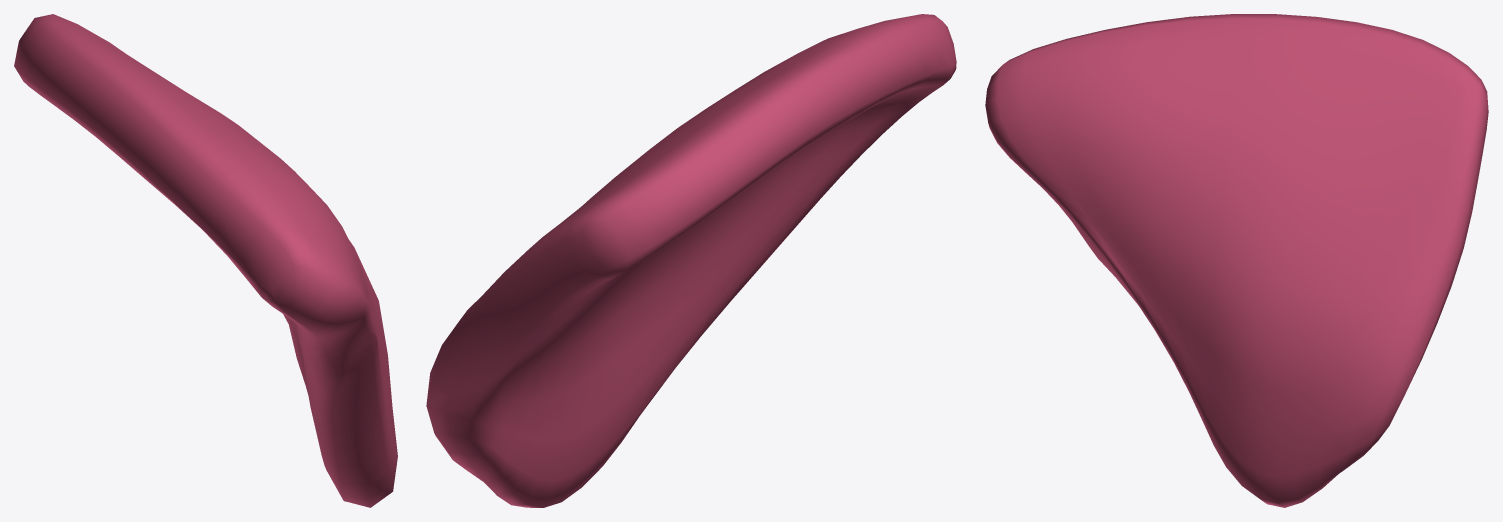
3 renders of one model, left to right at view 1: azimuth 30°, elevation 25°; view 2: azimuth 150°, elevation 25°; view 3: azimuth 270°, elevation 25°, orthographic. The views are drawn at different scales.
Visible parts, largest first — view 1: 左侧股二头肌下腱下囊; view 2: 左侧股二头肌下腱下囊; view 3: 左侧股二头肌下腱下囊.
Boxes of the visible parts, left/top/right/bottom form: 左侧股二头肌下腱下囊: left=14, top=14, right=397, bottom=507; 左侧股二头肌下腱下囊: left=426, top=14, right=956, bottom=507; 左侧股二头肌下腱下囊: left=985, top=14, right=1488, bottom=507.
Bounding box in the file's own units: 0.0148 × 0.0212 × 0.0247.
